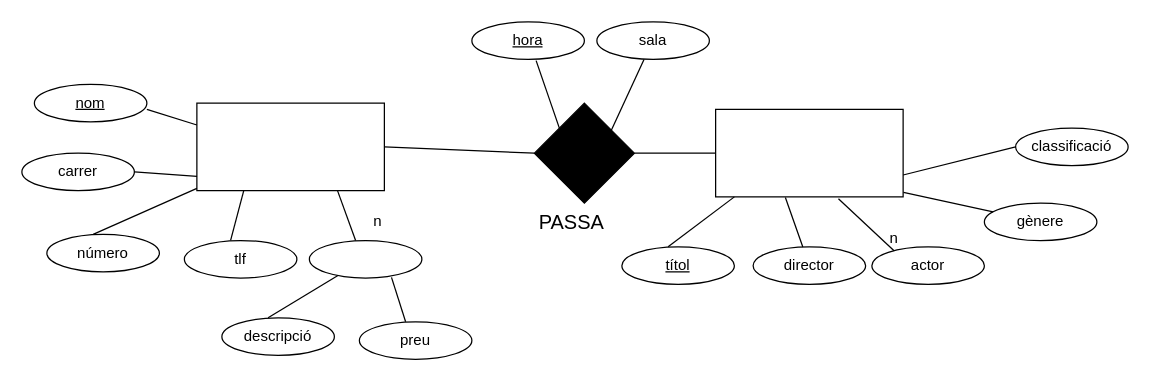
This 1150x381 diagram has some shape labels left out. Here are the shapes that lost their labels. From the top down, the centre of each, then its label:
(290,146): CINEMA
(808,152): PEL·LÍCULA
(365,258): tarifa
